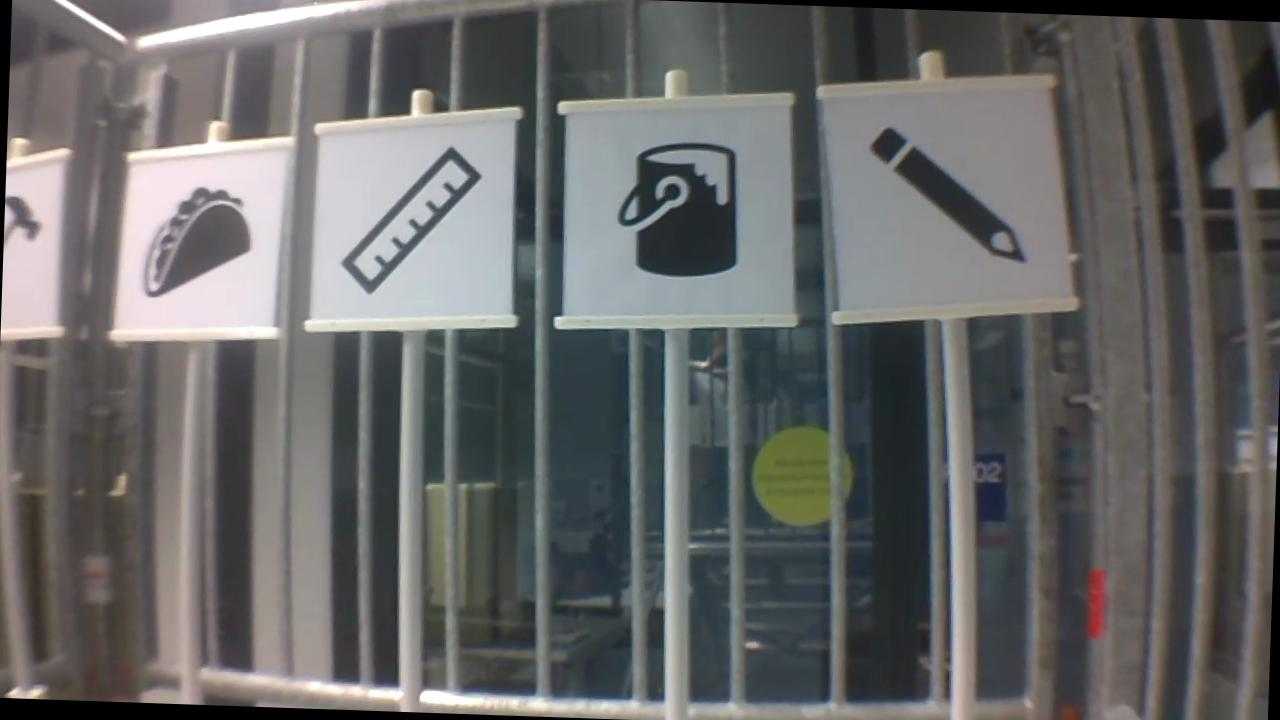bucket: (609, 135, 746, 281)
pencil: (857, 121, 1033, 268)
ruler: (332, 138, 486, 305)
taco: (135, 179, 255, 303)
